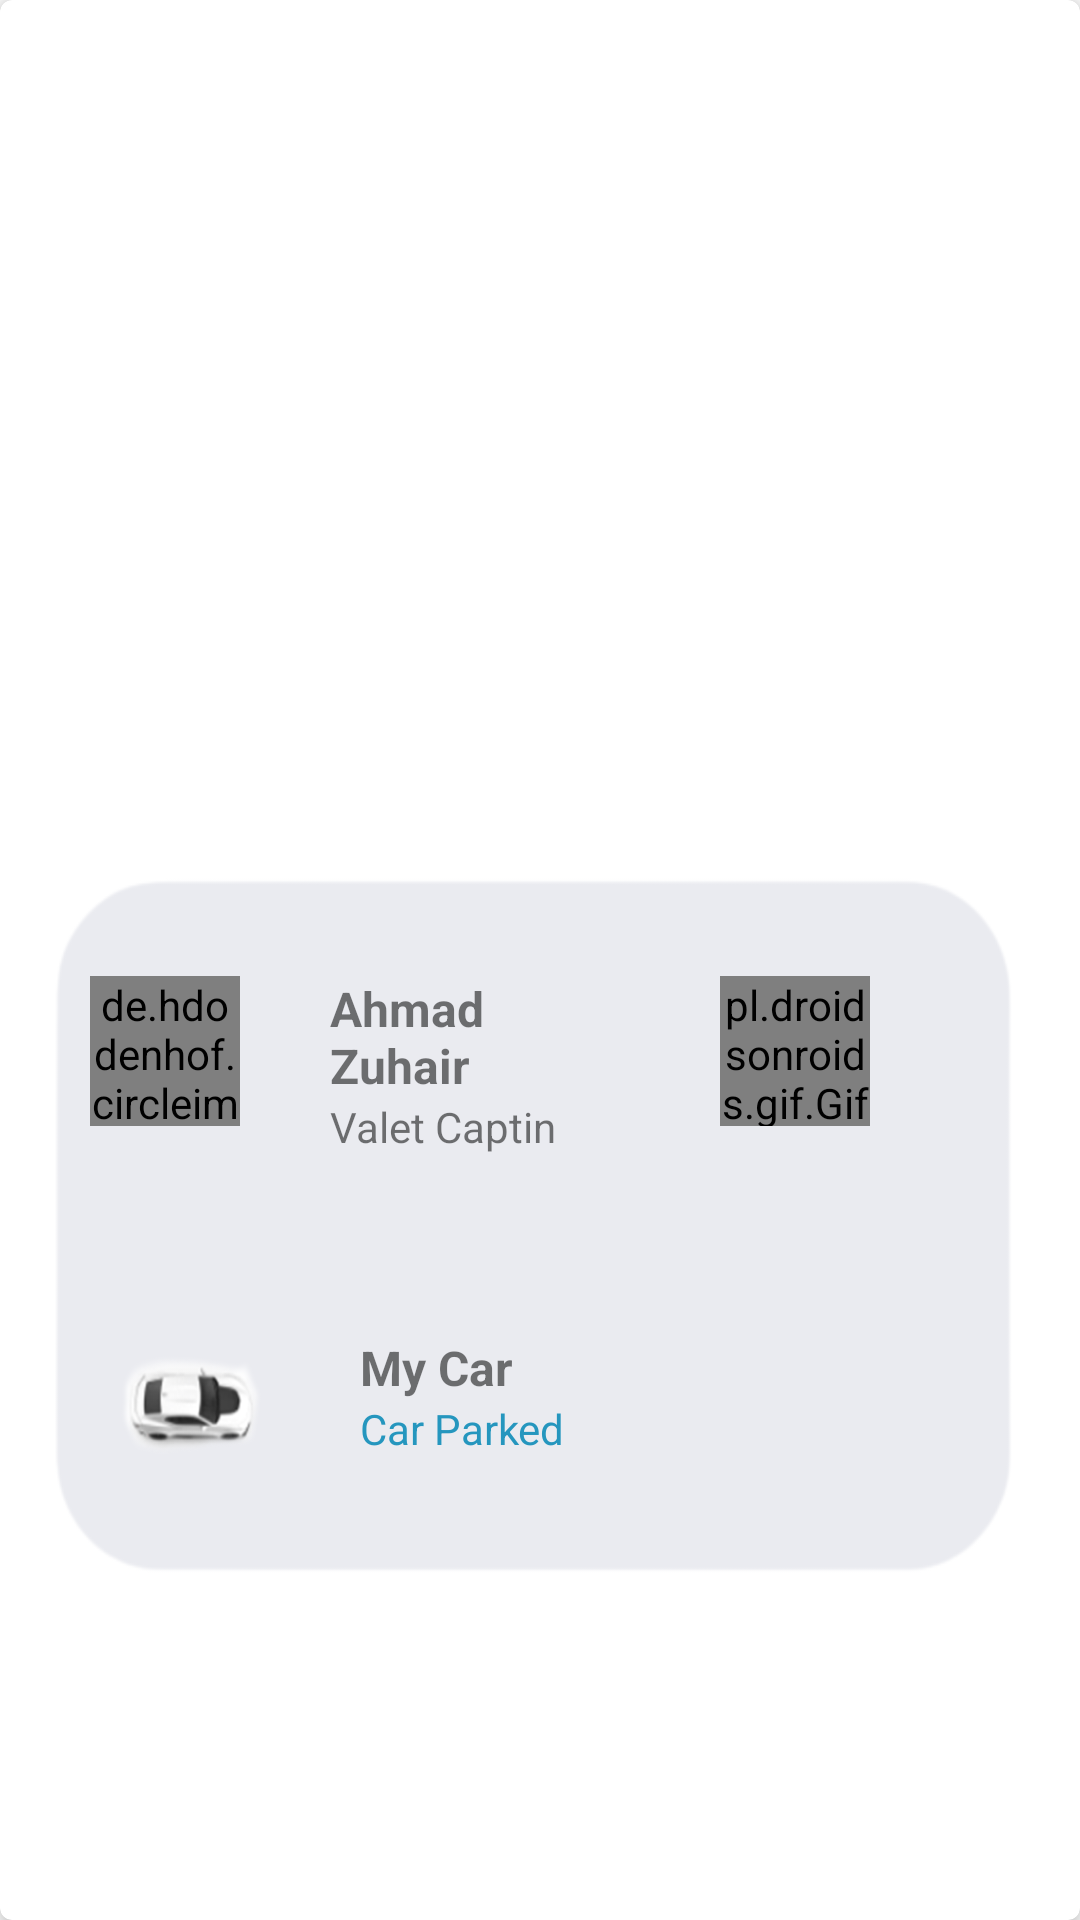

Where icons sit on this 1080 x 1920 app screen, as (x1, y1, x2, y2):
mapcar: (125, 1362, 256, 1447)
